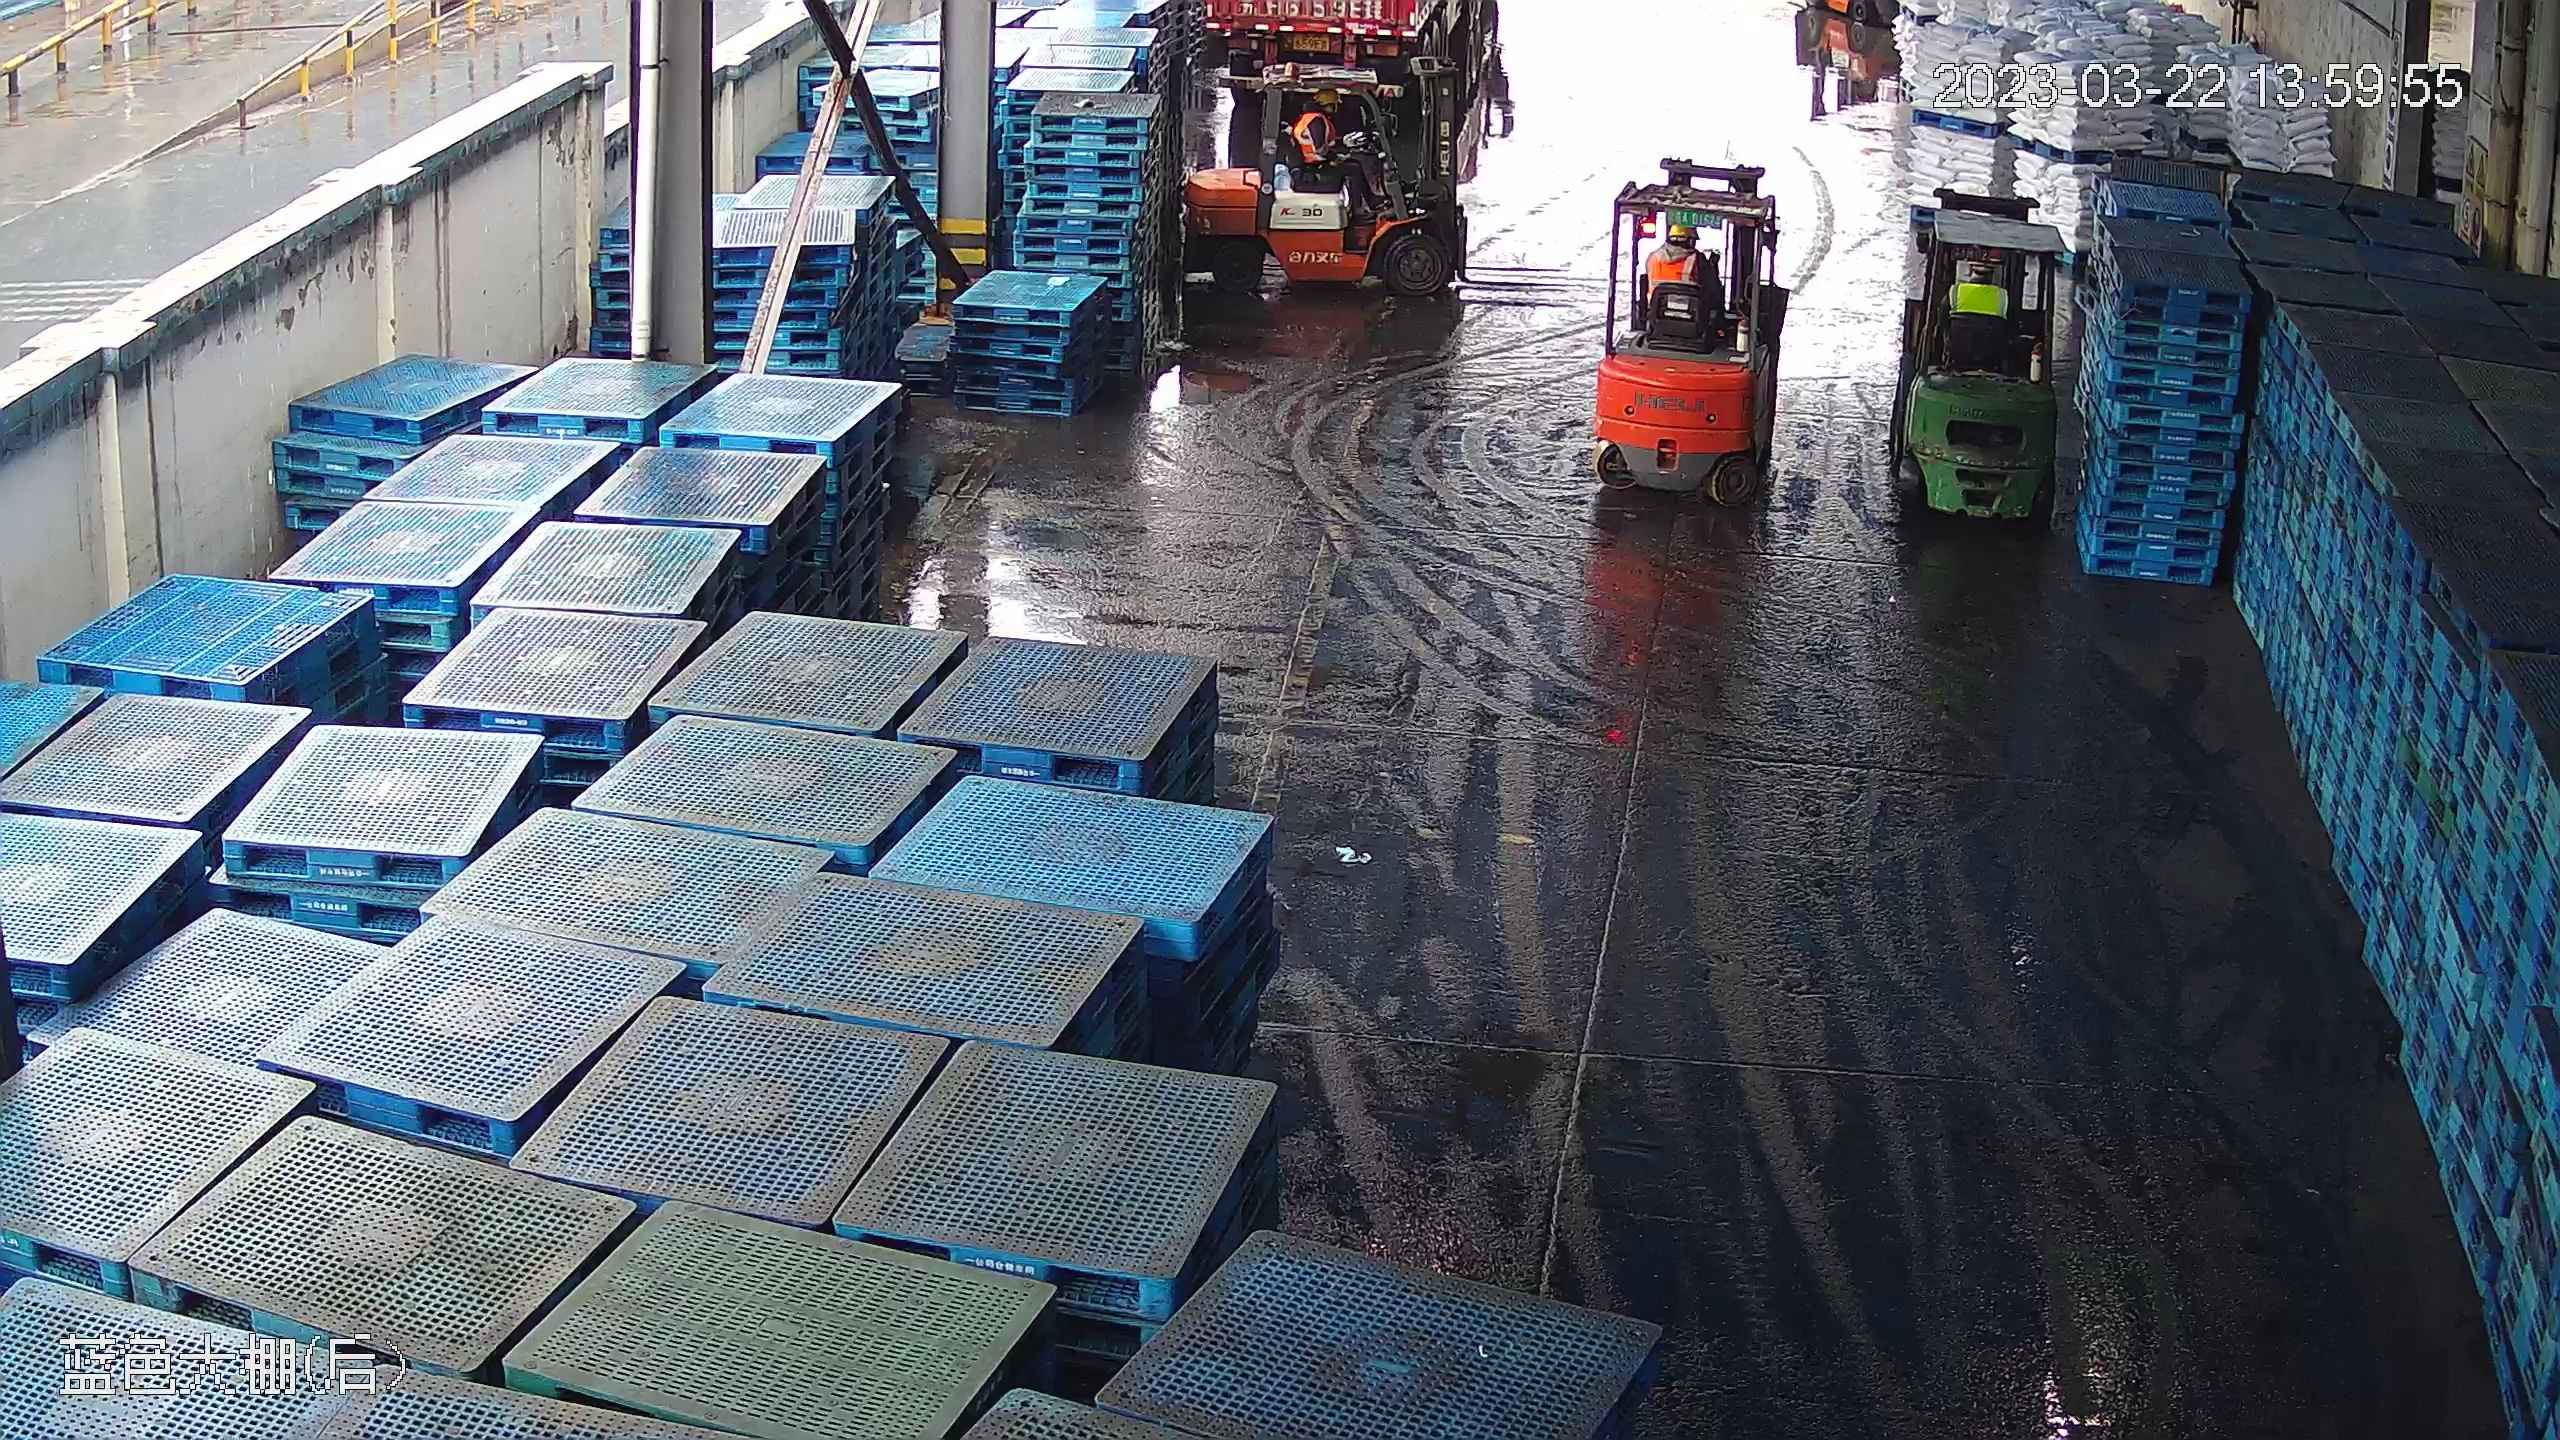head: (1653, 217, 1711, 279), (1295, 87, 1346, 137)
helmet: (1666, 216, 1700, 240), (1312, 84, 1342, 103)
people: (1286, 88, 1377, 203), (1291, 84, 1356, 151)
